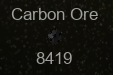Carbon: (11, 5, 99, 66)
